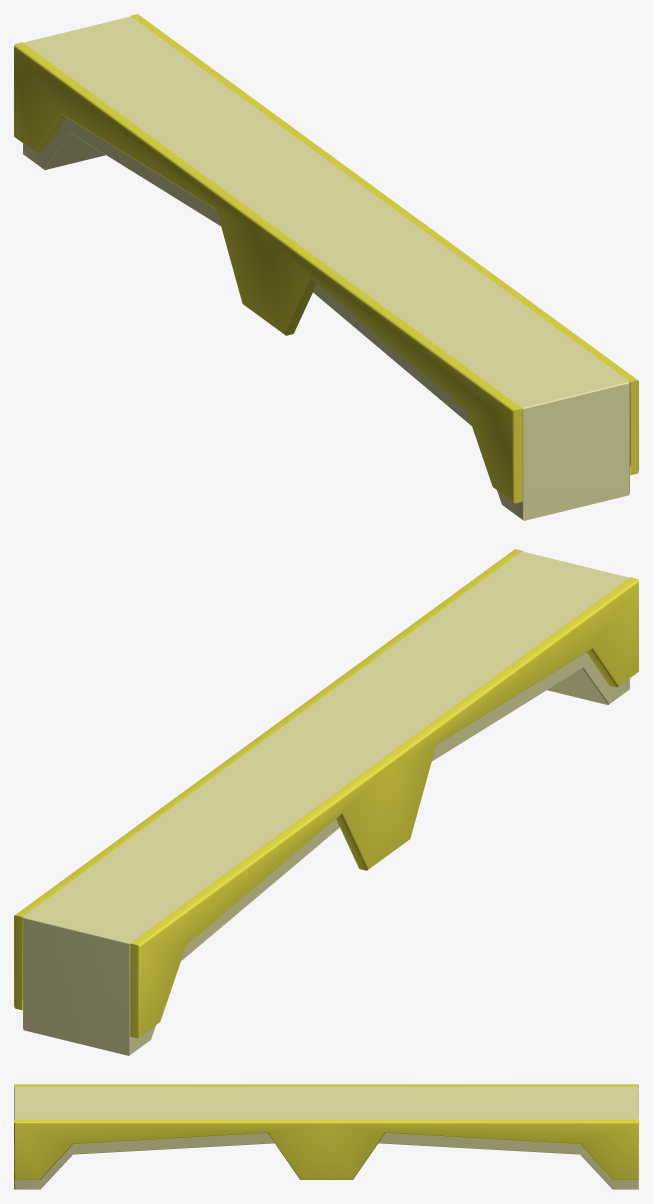
The model's file is M_Platform.fbx.
The picture shows the model from 3 angles, top to bottom: view 1: azimuth 30°, elevation 25°; view 2: azimuth 150°, elevation 25°; view 3: azimuth 270°, elevation 25°; orthographic projection. The views are drawn at different scales.
Visible parts, largest first — view 1: pCube20; view 2: pCube20; view 3: pCube20.
Part boxes in pixels (bbox=[...]): pCube20: bbox=[14, 14, 638, 520]; pCube20: bbox=[14, 549, 638, 1055]; pCube20: bbox=[14, 1084, 638, 1189].
Size of the model in its own units: 44.83 by 38.12 by 306.
